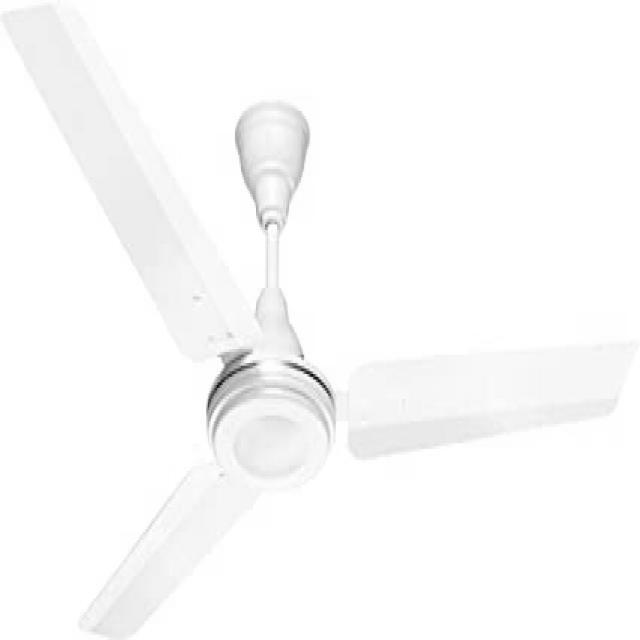fan: (1, 0, 635, 638)
